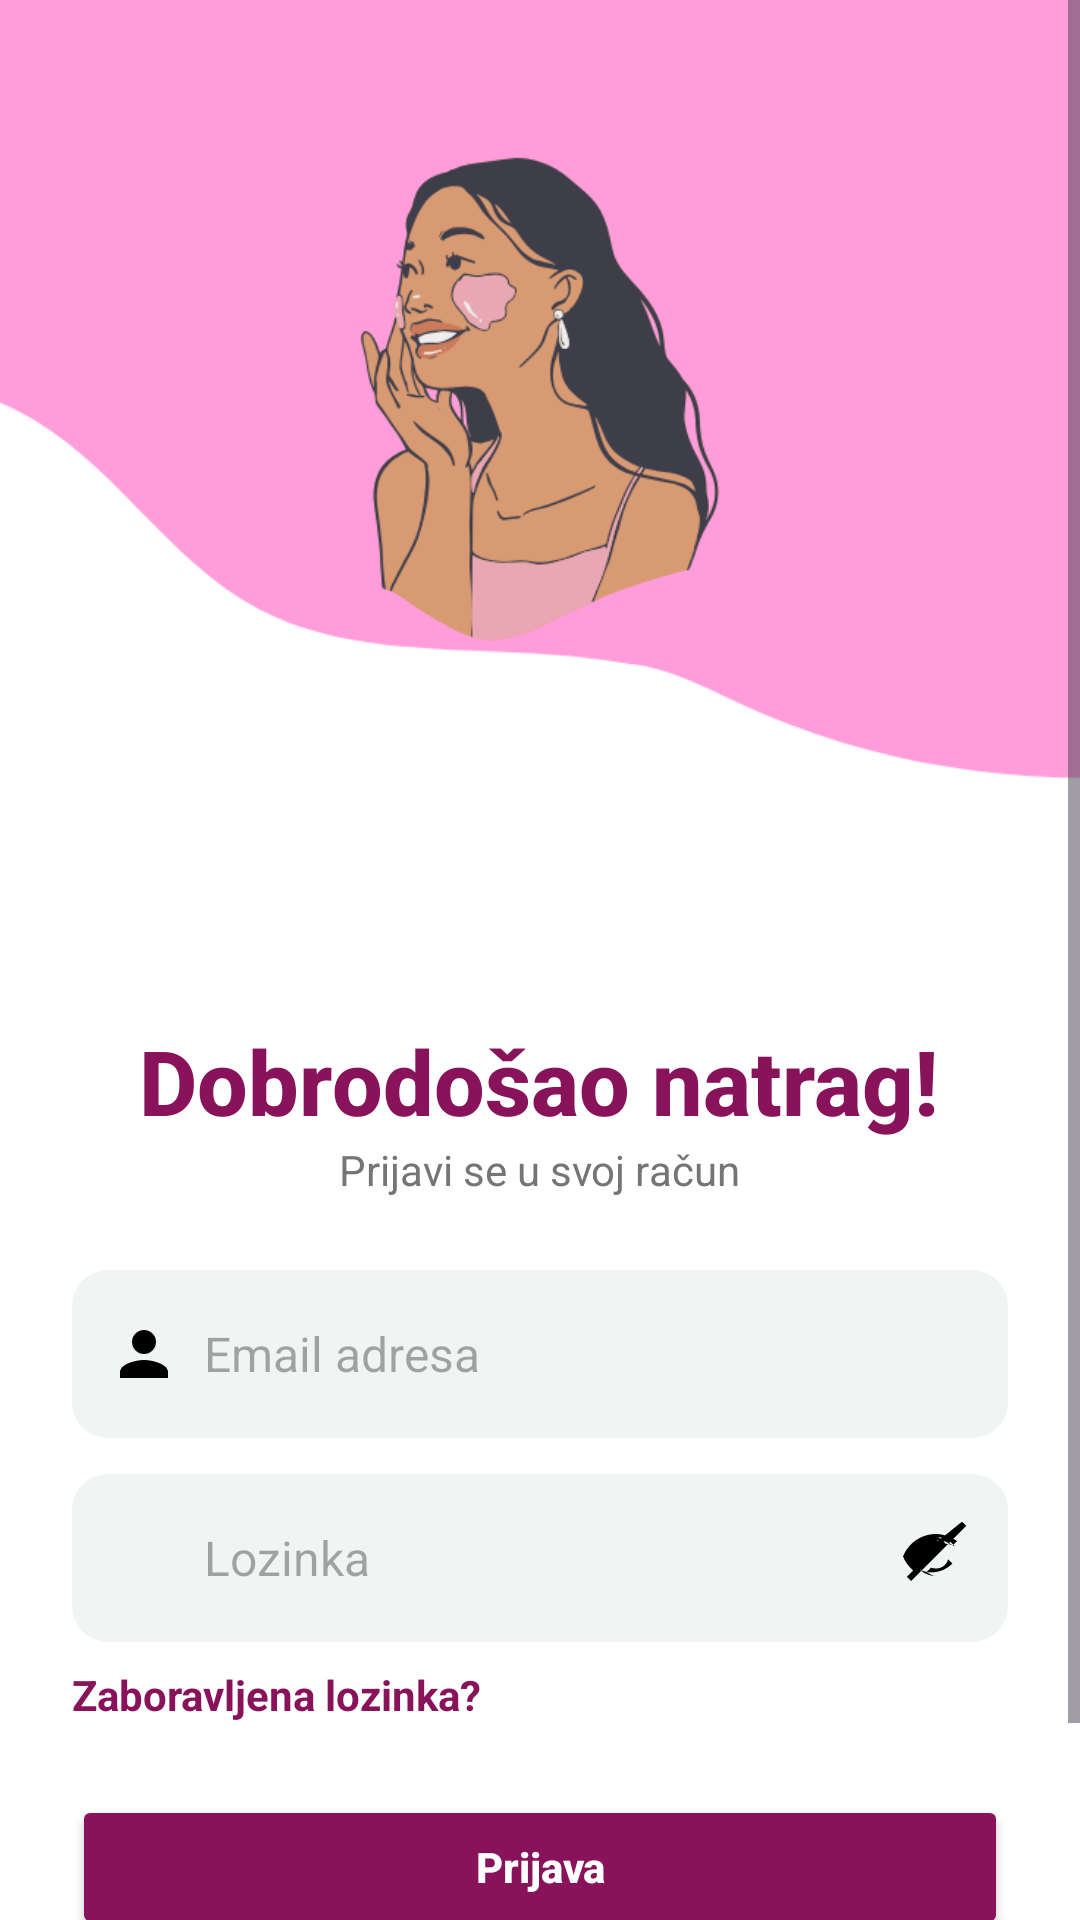

Icon click points for this 1080×1920 phone screenshot, format [x,y]:
Toggle password: [934,1551]
user: [144,1354]
